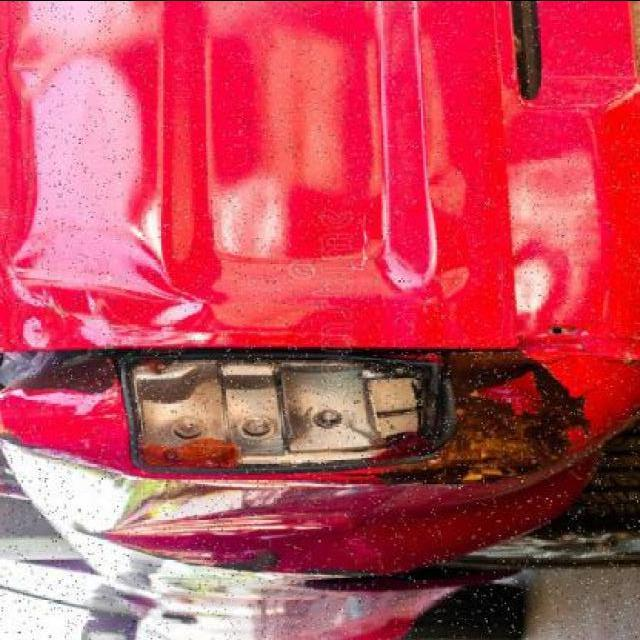Taillight-Damage: (16, 344, 609, 489)
